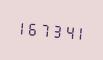four: (62, 20, 72, 41)
one: (73, 21, 83, 42), (17, 17, 27, 37)
seven: (40, 19, 50, 39)
six: (28, 18, 38, 38)
three: (51, 19, 61, 40)
